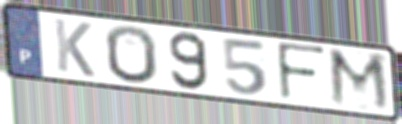5: (220, 38, 270, 97)
9: (167, 31, 211, 92)
F: (274, 40, 329, 104)
K: (51, 16, 97, 79)
M: (326, 45, 395, 115)
O: (103, 24, 161, 86)
